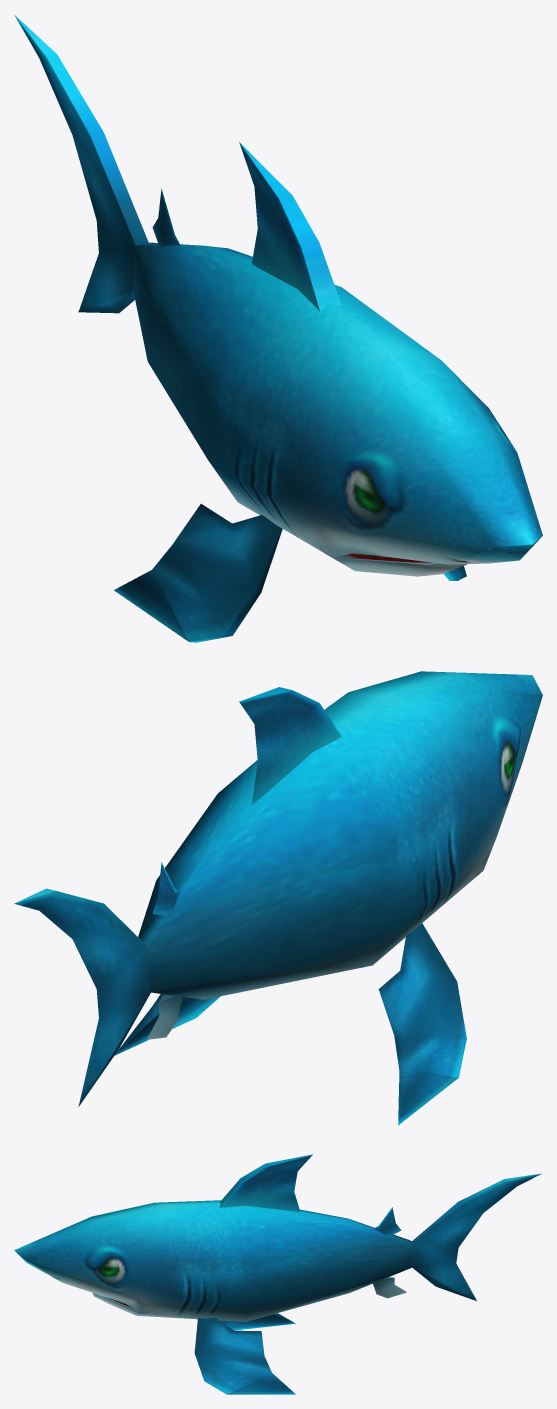
Rendered from shark.obj.
The picture shows the model from 3 angles, top to bottom: view 1: azimuth 30°, elevation 25°; view 2: azimuth 150°, elevation 25°; view 3: azimuth 270°, elevation 25°; orthographic projection. The views are drawn at different scales.
Visible parts, largest first — view 1: polygon_0; view 2: polygon_0; view 3: polygon_0.
Part boxes in pixels (bbox=[...]): polygon_0: bbox=[14, 14, 542, 642]; polygon_0: bbox=[14, 671, 542, 1125]; polygon_0: bbox=[14, 1154, 542, 1394].
Bounding box in the file's own units: 174 × 238 × 548.
1 material, 1 textured.
